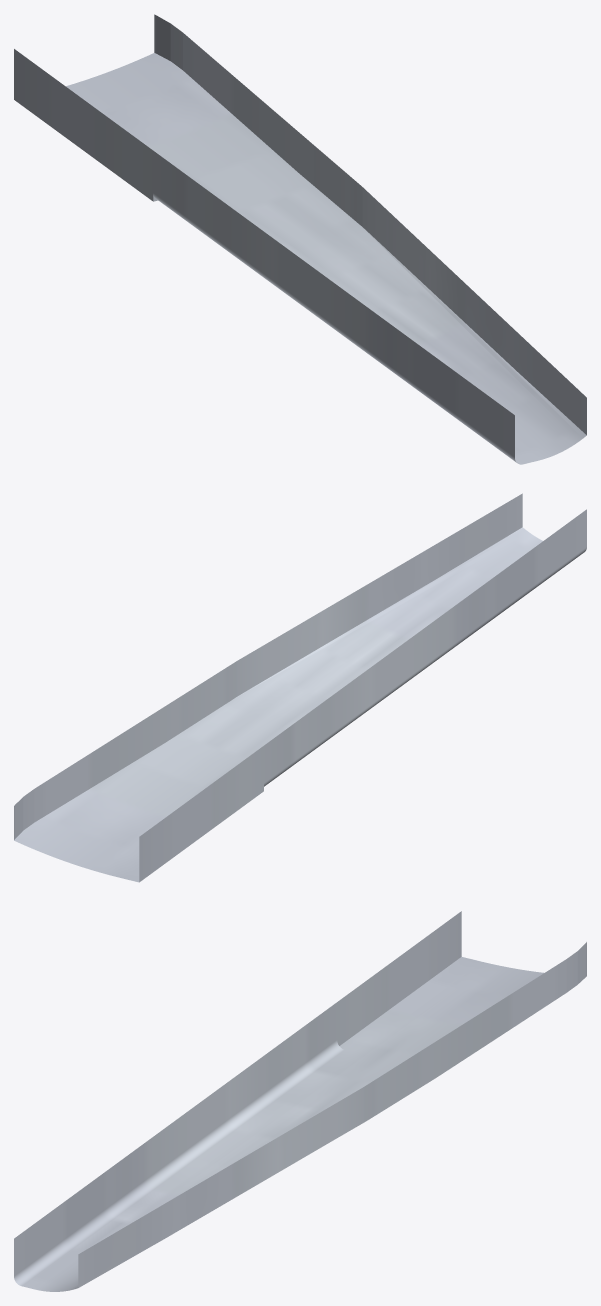
Rendered from original-15.obj.
3 views of the same model, one above another, from view 1: azimuth 30°, elevation 25°; view 2: azimuth 150°, elevation 25°; view 3: azimuth 330°, elevation 25° (orthographic). The views are drawn at different scales.
Visible parts, largest first — view 1: #ID86; view 2: #ID86; view 3: #ID86.
Part boxes in pixels (left/top/right/bottom): #ID86: left=14, top=14, right=586, bottom=464; #ID86: left=14, top=493, right=586, bottom=882; #ID86: left=14, top=911, right=586, bottom=1291.
Size of the model in its own units: 0.1044 by 0.0356 by 0.632.
